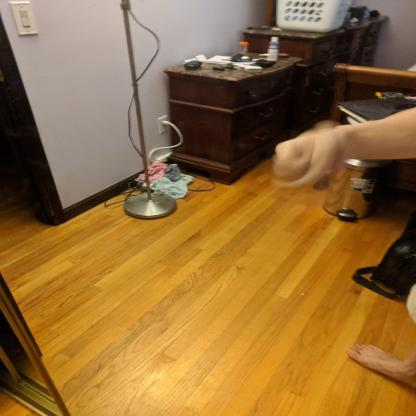J: (254, 115, 363, 225)
